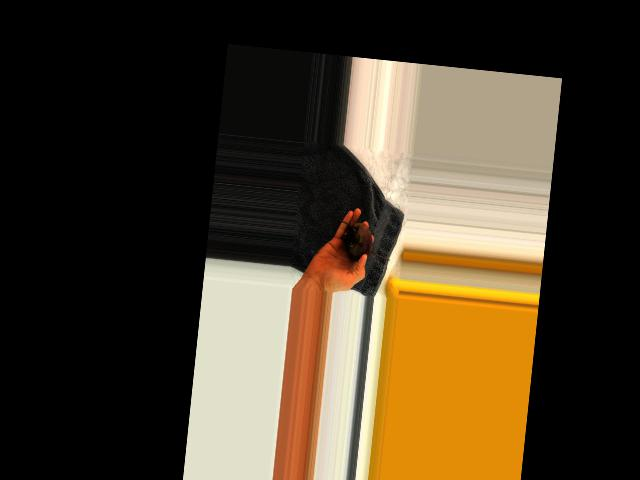beet: (340, 221, 393, 264)
